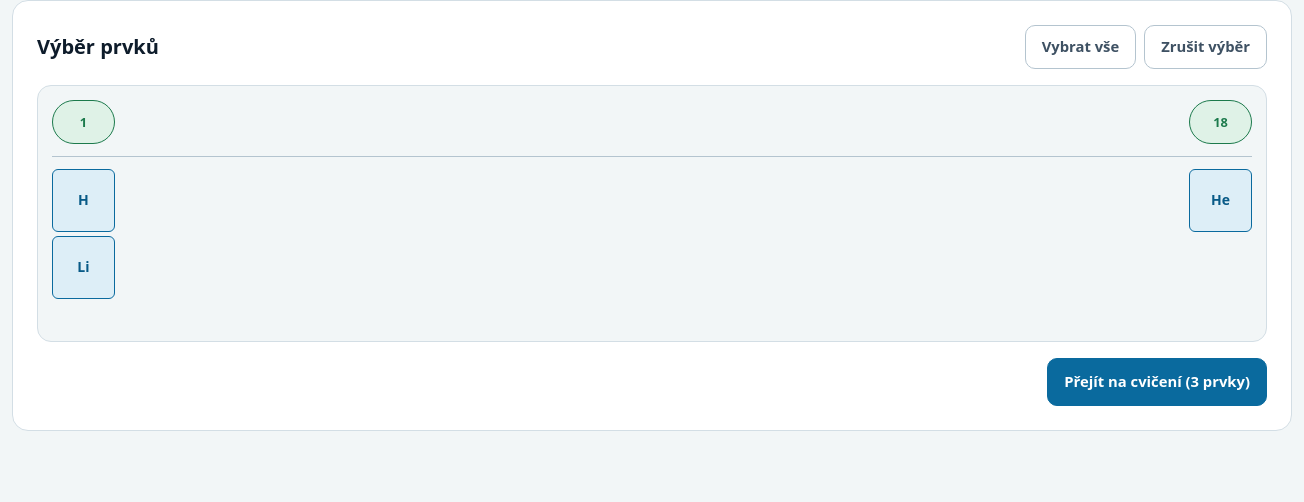
it: PeriodicTablePractice › shows only the sought element, the live score, the stopwatch, and the table
Step 1. Click the button "Přejít na cvičení (3 prvky)" → (1157, 382), box [1047,358,1267,406]
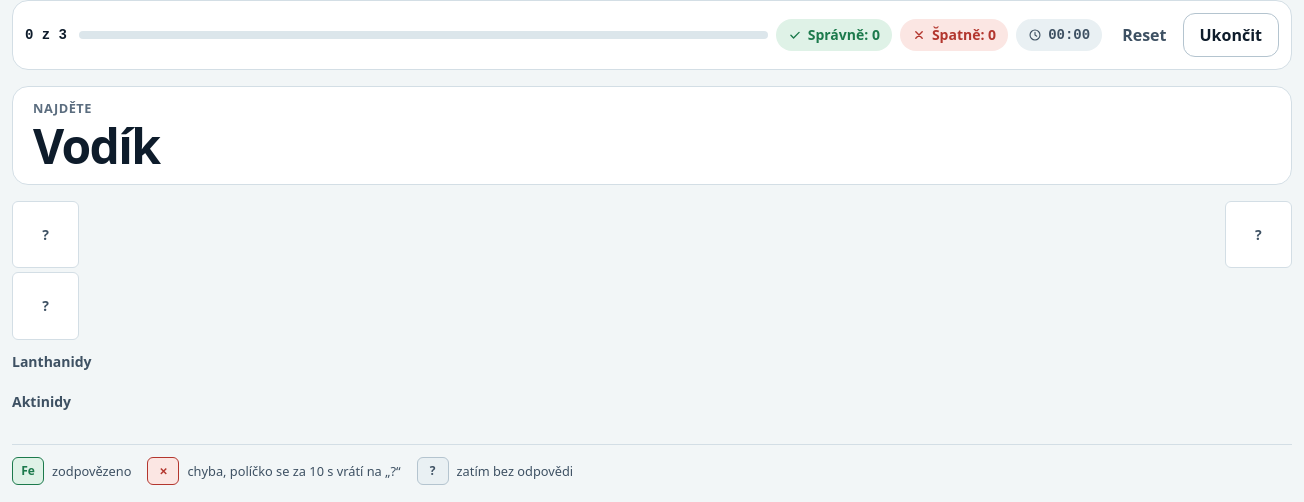
Expected: the text "Správně: 0" is shown, [808,25,880,45]
Expected: the text "Špatně: 0" is shown, [932,25,996,45]
Expected: the text "00:00" is shown, [1048,25,1090,45]
